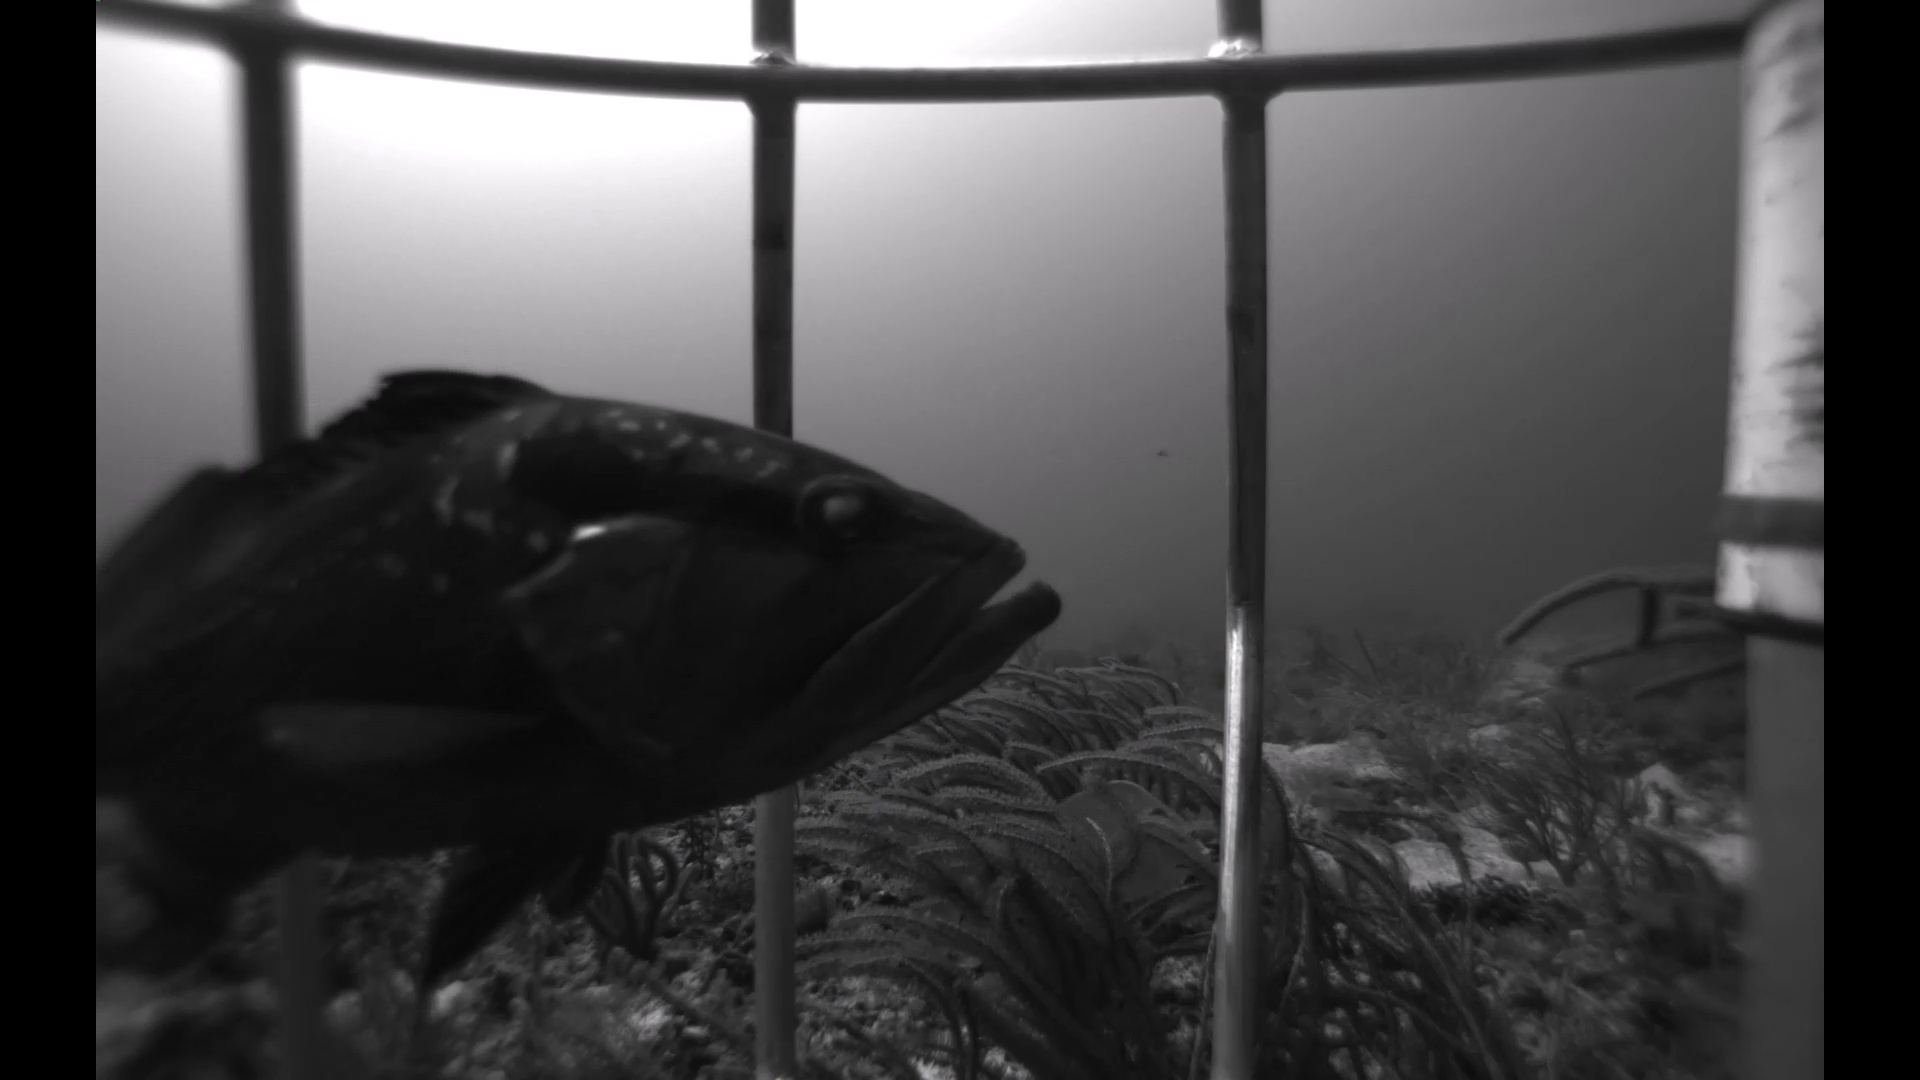CALAMUSNODOSUS-170210608: (1031, 769, 1218, 924)
EPINEPHELUSMORIO-170021211: (108, 327, 1087, 1007)
